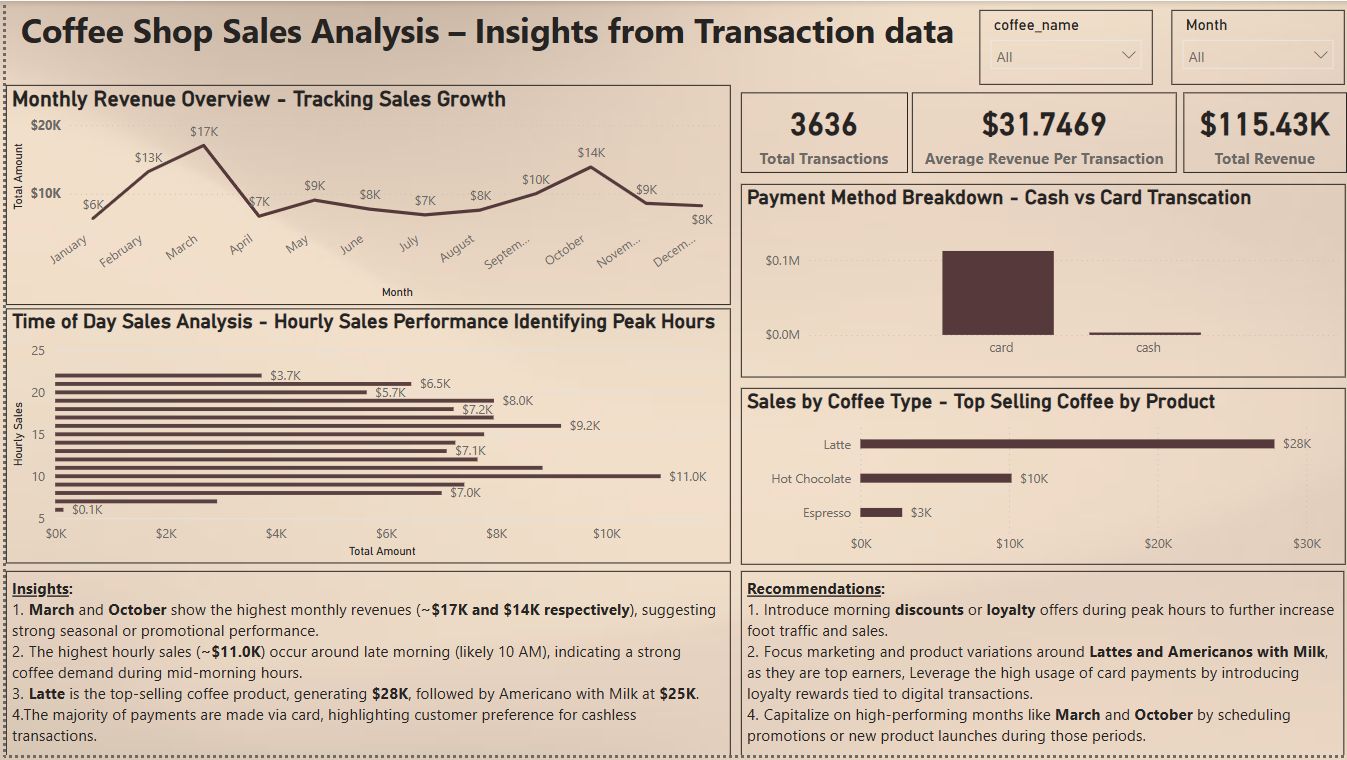

Layout of this report page (visuals, bound fields, positions):
{"tool":"powerbi","page":{"name":"dashboard","canvas":[1280,720],"ordinal":0},"visuals":[{"type":"textbox","box":[0,0,919.5,58.7],"z":0},{"type":"lineChart","title":"Monthly Revenue Overview - Tracking Sales Growth","fields":{"Y":["Sum(coffee shop 1.money)"],"Category":["coffee shop 1.date.Variation.Date Hierarchy.Month"]},"box":[0,79.5,691.9,210],"z":1000},{"type":"barChart","title":"Sales by Coffee Type - Top Selling Coffee by Product","fields":{"Y":["Sum(coffee shop 1.money)"],"Category":["coffee shop 1.coffee_name"]},"box":[701.5,369,577.4,168.6],"z":2000},{"type":"barChart","title":"Time of Day Sales Analysis - Hourly Sales Performance Identifying Peak Hours","fields":{"Y":["Sum(coffee shop 1.money)"],"Category":["coffee shop 1.hour"]},"box":[0,294.3,691.9,243.4],"z":3000},{"type":"columnChart","title":"Payment Method Breakdown - Cash vs Card Transcation","fields":{"Category":["coffee shop 1.cash_type"],"Y":["Sum(coffee shop 1.money)"]},"box":[701.5,175,577.4,184.5],"z":4000},{"type":"card","fields":{"Values":["coffee shop 1.Total Revenue"]},"box":[1124.6,87.5,155.9,76.3],"z":5000},{"type":"slicer","fields":{"Values":["coffee shop 1.date.Variation.Date Hierarchy.Month"]},"box":[1113.4,8,165.4,71.6],"z":6000},{"type":"slicer","fields":{"Values":["coffee shop 1.coffee_name"]},"box":[928.9,8,165.4,71.6],"z":7000},{"type":"card","fields":{"Values":["coffee shop 1.Average Revenue Per Transaction"]},"box":[865.3,87.5,252.9,76.3],"z":8000},{"type":"card","fields":{"Values":["coffee shop 1.Total Transactions"]},"box":[701.5,87.5,159.1,76.3],"z":9000},{"type":"textbox","box":[0,544,691.9,176.6],"z":10000},{"type":"textbox","box":[701.5,544,575.8,176.6],"z":11000}]}

Visuals, with their boxes in screenshot pixels (x1, y1, x2, y2), scaled from the page's 1280x720 canvas onto the 1347x760 screenshot:
textbox: Rect(0, 0, 968, 62)
"Monthly Revenue Overview - Tracking Sales Growth" lineChart: Rect(0, 84, 728, 306)
"Sales by Coffee Type - Top Selling Coffee by Product" barChart: Rect(738, 390, 1346, 567)
"Time of Day Sales Analysis - Hourly Sales Performance Identifying Peak Hours" barChart: Rect(0, 311, 728, 568)
"Payment Method Breakdown - Cash vs Card Transcation" columnChart: Rect(738, 185, 1346, 379)
card - coffee shop 1.Total Revenue: Rect(1183, 92, 1346, 173)
slicer - coffee shop 1.date.Variation.Date Hierarchy.Month: Rect(1172, 8, 1346, 84)
slicer - coffee shop 1.coffee_name: Rect(978, 8, 1152, 84)
card - coffee shop 1.Average Revenue Per Transaction: Rect(911, 92, 1177, 173)
card - coffee shop 1.Total Transactions: Rect(738, 92, 906, 173)
textbox: Rect(0, 574, 728, 759)
textbox: Rect(738, 574, 1344, 759)
